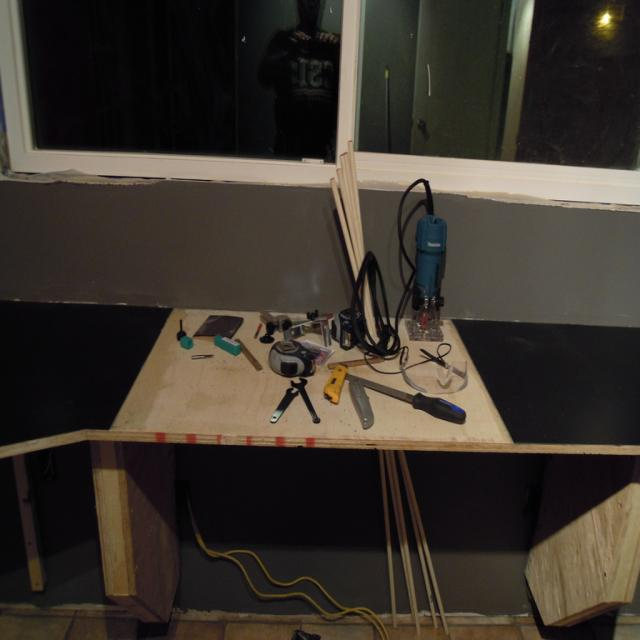desk: (1, 315, 638, 636)
